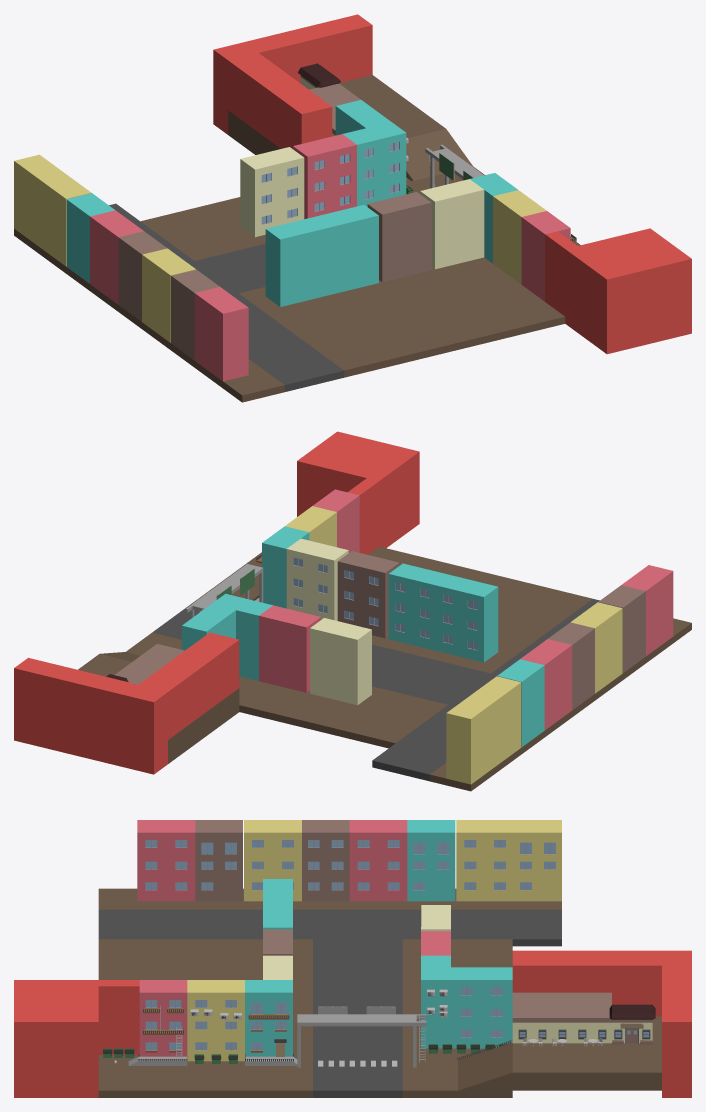
3 renders of one model, top to bottom at view 1: azimuth 30°, elevation 25°; view 2: azimuth 150°, elevation 25°; view 3: azimuth 270°, elevation 25°, orthographic. The views are drawn at different scales.
Visible parts, largest first — view 1: Apartment_Row, Ground_1, Wall_6, Wall_4, Wall_3, Main_Road_1, Slope, Apartment_11, Apartment_12, Ground_2, Apartment_04, Apartment_05 (+13 smaller); view 2: Apartment_Row, Wall_4, Ground_2, Wall_6, Ground_1, Wall_3, Apartment_11, Main_Road_2, Apartment_12, Main_Road_1, Apartment_14, Apartment_05 (+12 smaller); view 3: Apartment_Row, Ground_1, Main_Road_1, Main_Road_2, Wall_6, Slope, Wall_3, Ground_2, Apartment_15, Base_Cafe_2, Wall_4, Apartment_02 (+14 smaller).
Part boxes in pixels (x1,y1,x2,y2): Apartment_Row: [14, 154, 248, 381]; Ground_1: [239, 241, 580, 377]; Wall_6: [565, 228, 691, 354]; Wall_4: [213, 14, 372, 134]; Wall_3: [228, 53, 332, 148]; Main_Road_1: [109, 203, 344, 391]; Slope: [228, 75, 472, 180]; Apartment_11: [265, 217, 329, 306]; Apartment_12: [240, 147, 304, 237]; Ground_2: [141, 166, 484, 260]; Apartment_04: [420, 179, 484, 269]; Apartment_05: [367, 192, 431, 282]; Apartment_Row: [446, 565, 673, 784]; Wall_4: [14, 657, 167, 774]; Ground_2: [126, 632, 447, 748]; Wall_6: [297, 431, 419, 548]; Ground_1: [195, 546, 592, 673]; Wall_3: [139, 632, 239, 739]; Apartment_11: [436, 575, 498, 662]; Main_Road_2: [152, 601, 490, 704]; Apartment_12: [310, 618, 371, 705]; Main_Road_1: [372, 599, 599, 781]; Apartment_14: [259, 605, 320, 692]; Apartment_05: [337, 551, 399, 638]; Apartment_Row: [137, 820, 561, 901]; Ground_1: [98, 939, 312, 1097]; Main_Road_1: [98, 909, 561, 946]; Main_Road_2: [313, 939, 402, 1097]; Wall_6: [14, 980, 98, 1097]; Slope: [458, 1016, 661, 1090]; Wall_3: [512, 950, 661, 1016]; Ground_2: [402, 939, 512, 1097]; Apartment_15: [451, 967, 512, 1048]; Base_Cafe_2: [512, 992, 611, 1043]; Wall_4: [662, 950, 691, 1097]; Apartment_02: [187, 980, 244, 1061].
Bounding box in the file's own units: 48000 × 8400 × 68057.
